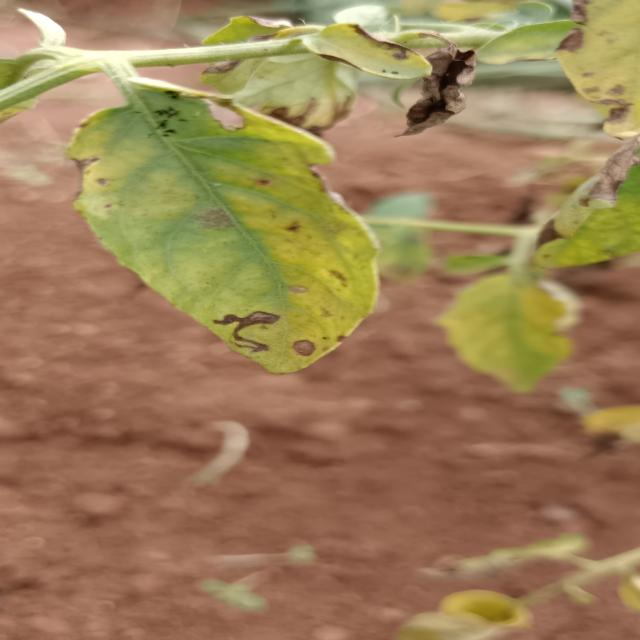tomato_early blight: (66, 63, 376, 374), (192, 10, 370, 171), (437, 261, 582, 393), (541, 0, 640, 148)
